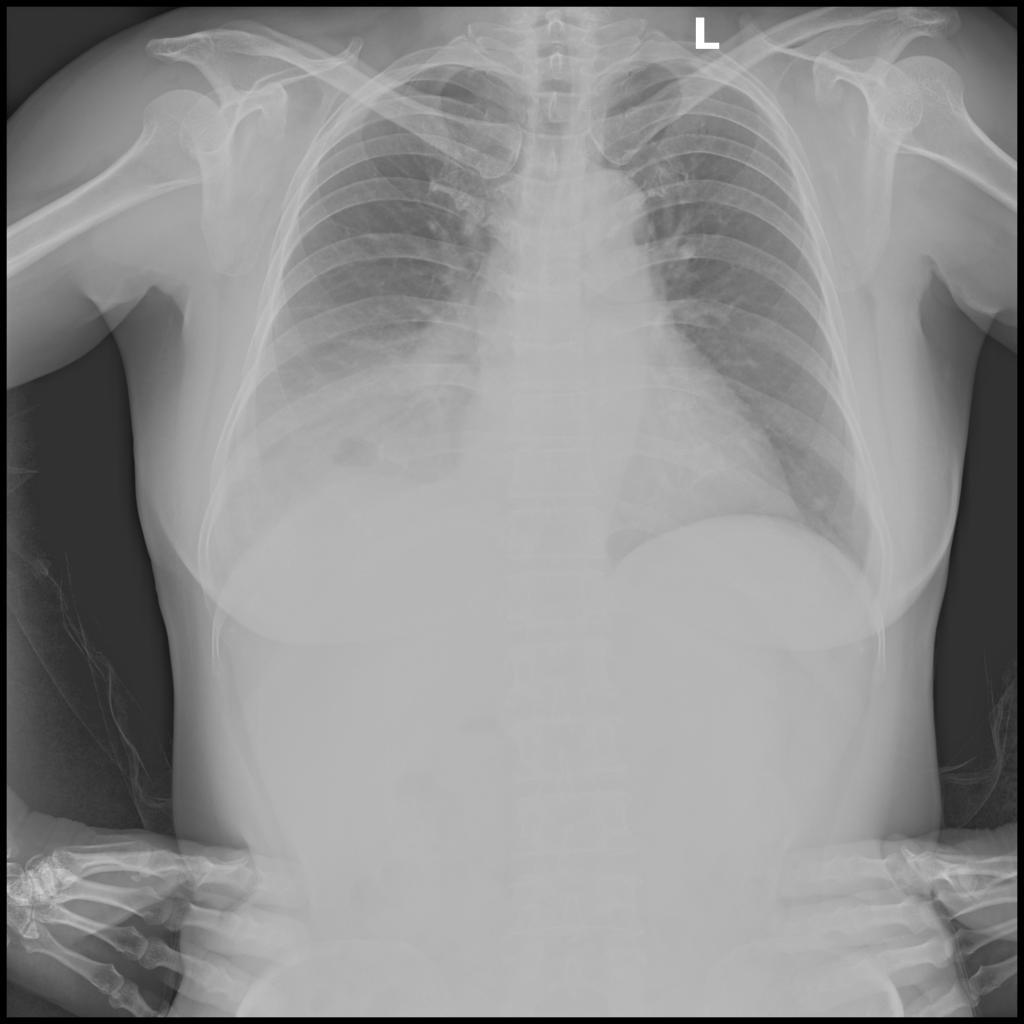Nodule: (815, 496, 831, 515)
